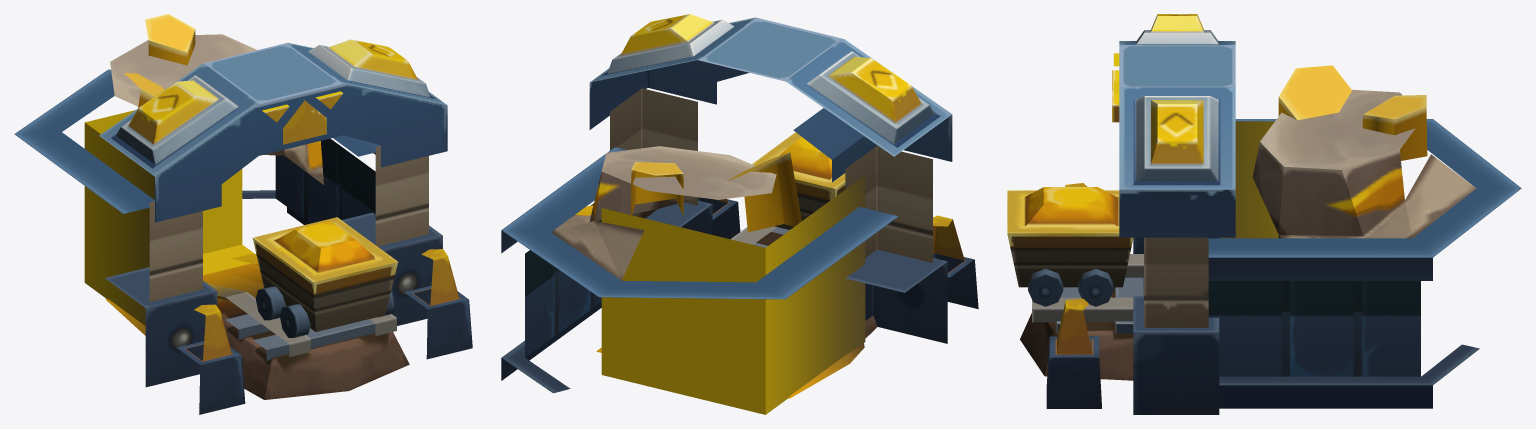
The model's file is B_Goldmine05.fbx.
3 renders of one model, left to right at view 1: azimuth 30°, elevation 25°; view 2: azimuth 150°, elevation 25°; view 3: azimuth 270°, elevation 25°, orthographic. The views are drawn at different scales.
Visible parts, largest first — view 1: B_Goldmine05_01, B_Goldmine05_02; view 2: B_Goldmine05_01, B_Goldmine05_02; view 3: B_Goldmine05_01, B_Goldmine05_02.
Boxes of the visible parts, x1=… form: B_Goldmine05_01: x1=14, y1=14, x2=472, y2=414; B_Goldmine05_02: x1=252, y1=217, x2=398, y2=337; B_Goldmine05_01: x1=501, y1=14, x2=978, y2=414; B_Goldmine05_02: x1=752, y1=132, x2=845, y2=229; B_Goldmine05_01: x1=1020, y1=14, x2=1521, y2=414; B_Goldmine05_02: x1=1007, y1=187, x2=1133, y2=306.
Bounding box in the file's own units: 3.66 × 3.15 × 5.27.
1 material, 1 textured.
